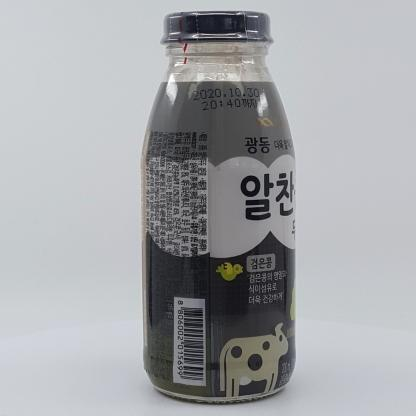--------200ML: (141, 10, 296, 404)
